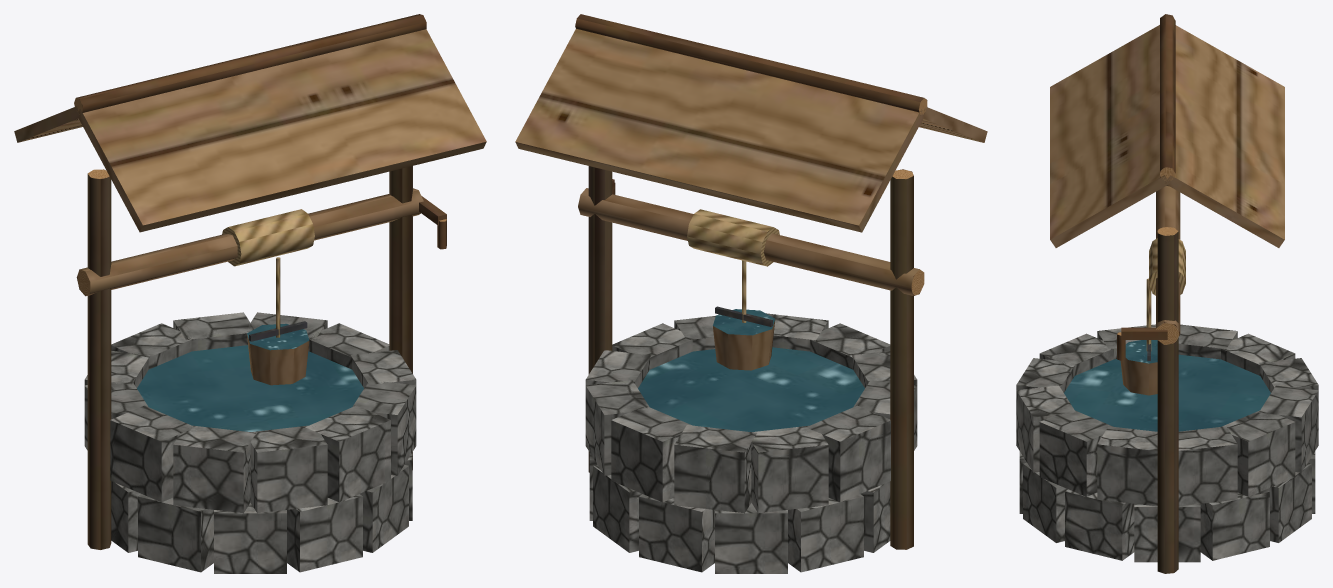
Rendered from well.glb.
3 renders of one model, left to right at view 1: azimuth 30°, elevation 25°; view 2: azimuth 150°, elevation 25°; view 3: azimuth 270°, elevation 25°, orthographic. The views are drawn at different scales.
Visible parts, largest first — view 1: well; view 2: well; view 3: well.
Boxes of the visible parts, bbox=[...] form: well: bbox=[14, 14, 486, 573]; well: bbox=[515, 14, 987, 573]; well: bbox=[1016, 14, 1318, 573].
Size of the model in its own units: 1.96 by 2.46 by 1.64.
Materials: 1 (1 with a texture image).
